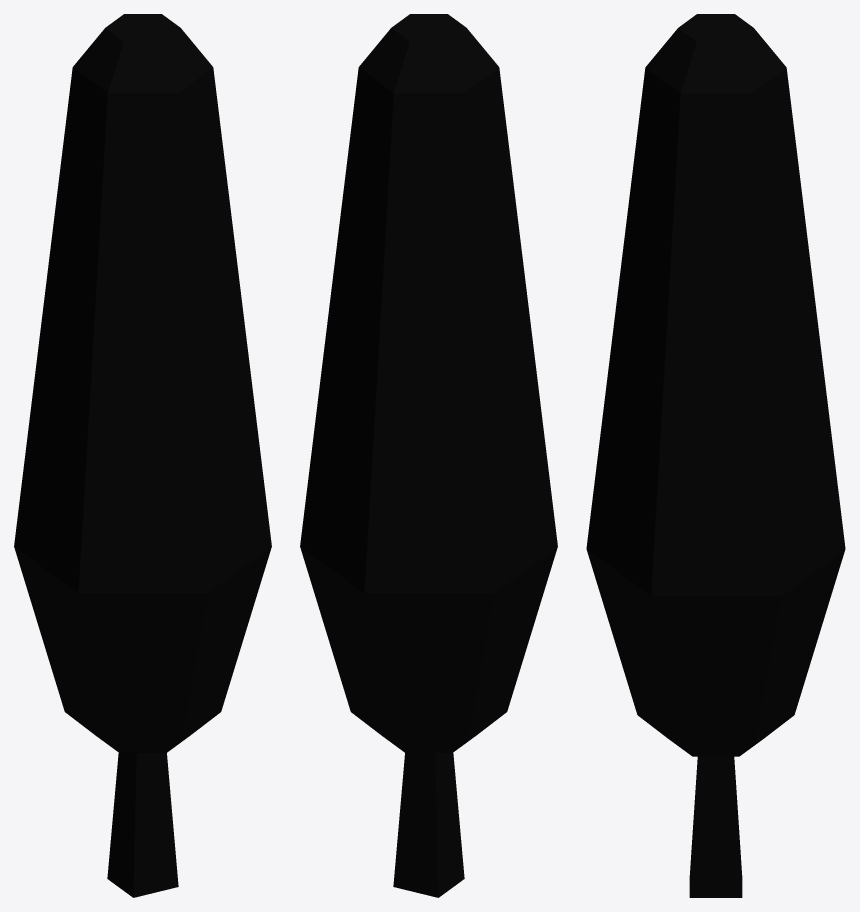
File: treeLarge.glb
3 renders of one model, left to right at view 1: azimuth 30°, elevation 25°; view 2: azimuth 150°, elevation 25°; view 3: azimuth 270°, elevation 25°, orthographic.
Visible parts, largest first — view 1: Mesh treeLarge; view 2: Mesh treeLarge; view 3: Mesh treeLarge.
Part boxes in pixels (box(x1,y1,x2,y2)): Mesh treeLarge: box(14, 14, 271, 897); Mesh treeLarge: box(300, 14, 557, 897); Mesh treeLarge: box(586, 14, 845, 897).
Size of the model in its own units: 0.3567 by 1.51 by 0.4119.
1 material, 1 textured.
